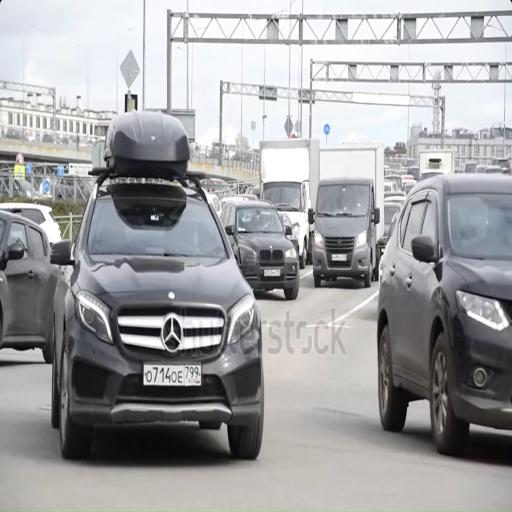License plates: (143, 364, 201, 386), (264, 269, 280, 276), (332, 254, 346, 261), (382, 247, 385, 254)
